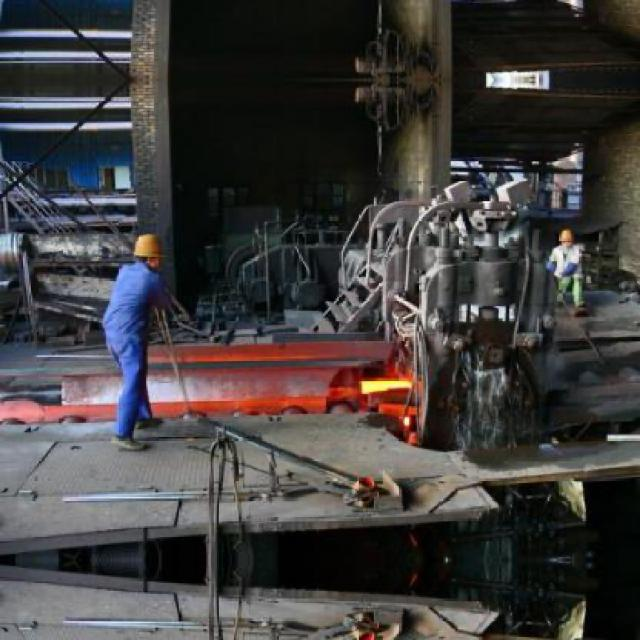helmet: (130, 231, 168, 275), (558, 224, 577, 250)
